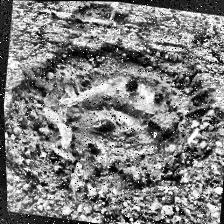pothole: (0, 24, 224, 216), (61, 1, 131, 43)
